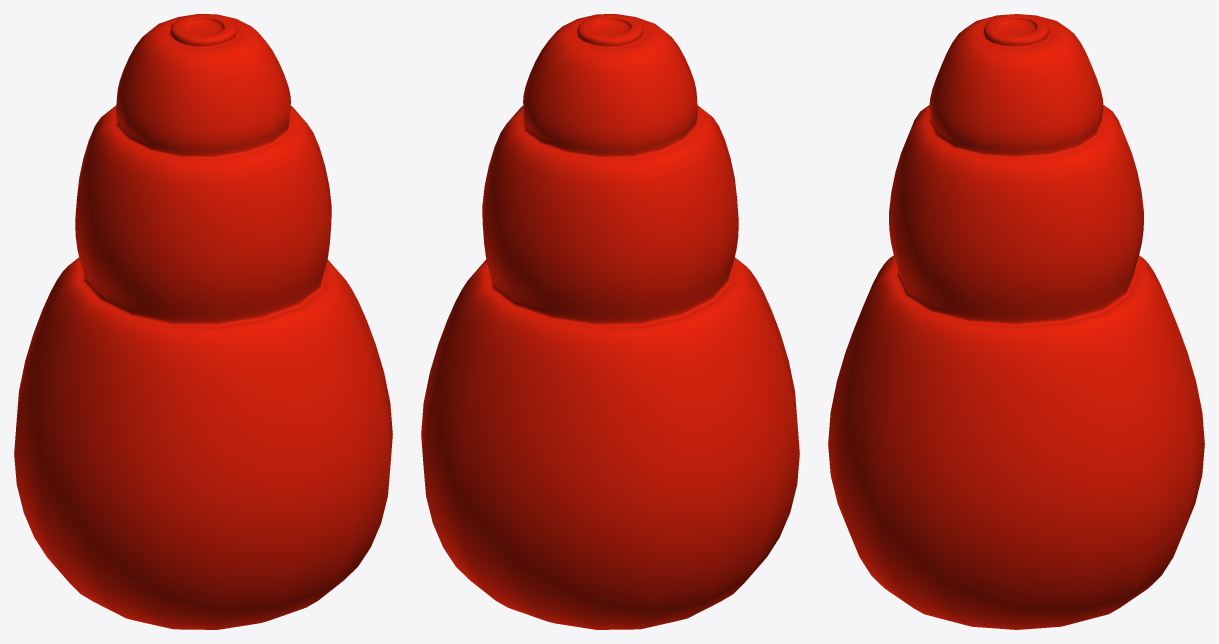
The model's file is snack_holder_red.glb.
3 renders of one model, left to right at view 1: azimuth 30°, elevation 25°; view 2: azimuth 150°, elevation 25°; view 3: azimuth 270°, elevation 25°, orthographic.
Parts seen in each view (by area): view 1: Cube.001; view 2: Cube.001; view 3: Cube.001.
Boxes of the visible parts, left/top/right/bottom form: Cube.001: left=14, top=14, right=392, bottom=629; Cube.001: left=421, top=14, right=799, bottom=629; Cube.001: left=828, top=14, right=1204, bottom=629.
Size of the model in its own units: 0.4307 by 0.7226 by 0.4307.
